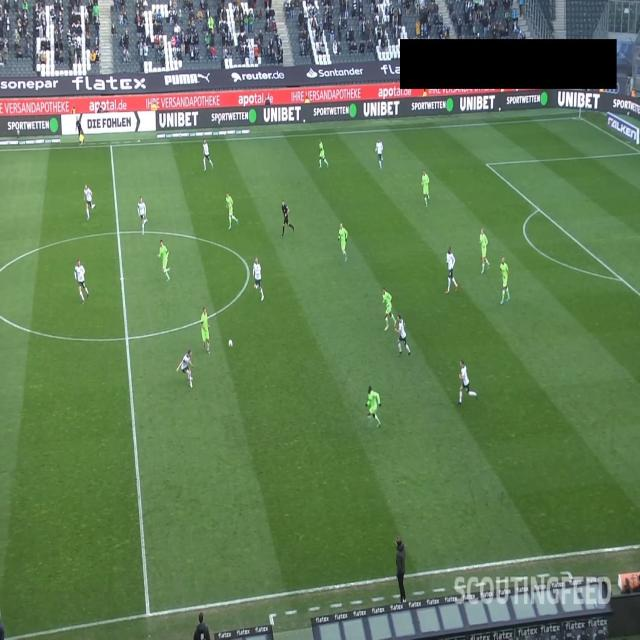ball: (227, 338, 234, 350)
